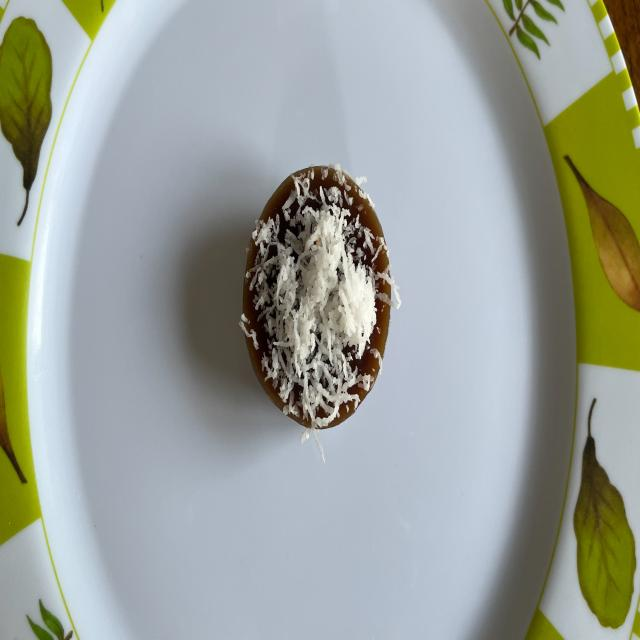Kuih lompang: (240, 164, 400, 458)
